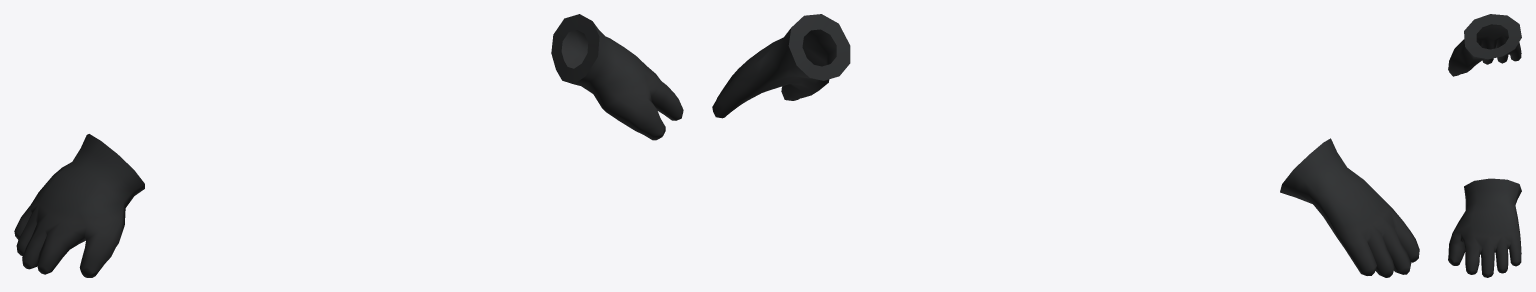
File: Costume_4_03.glb
3 renders of one model, left to right at view 1: azimuth 30°, elevation 25°; view 2: azimuth 150°, elevation 25°; view 3: azimuth 270°, elevation 25°, orthographic. The views are drawn at different scales.
Parts seen in each view (by area): view 1: Costume_4_03; view 2: Costume_4_03; view 3: Costume_4_03.
Boxes of the visible parts, x1,y1,x2,y2 form: Costume_4_03: (14, 14, 683, 277); Costume_4_03: (712, 14, 1419, 277); Costume_4_03: (1448, 14, 1521, 277).
Size of the model in its own units: 0.8285 by 0.1322 by 0.1186.
1 material, 1 textured.
